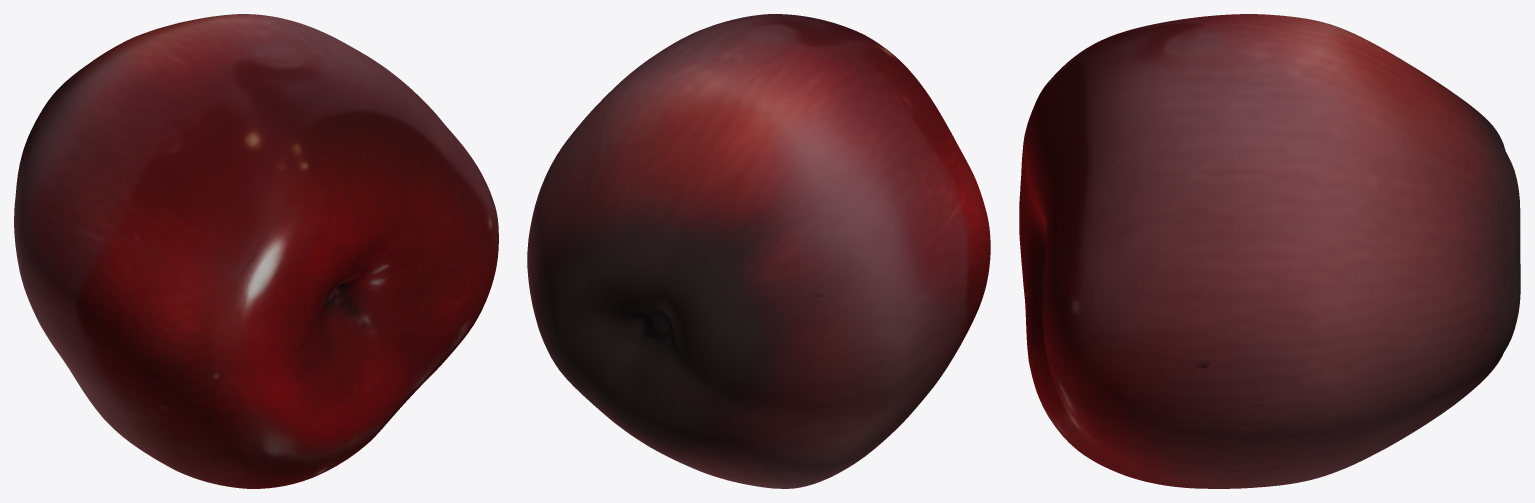
File: redapple.obj
The picture shows the model from 3 angles, left to right: view 1: azimuth 30°, elevation 25°; view 2: azimuth 150°, elevation 25°; view 3: azimuth 270°, elevation 25°; orthographic projection. The views are drawn at different scales.
Bounding box in the file's own units: 0.0909 × 0.0904 × 0.0919.
Materials: 1 (1 with a texture image).
